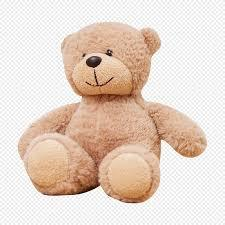non-mango: (17, 20, 207, 203)
